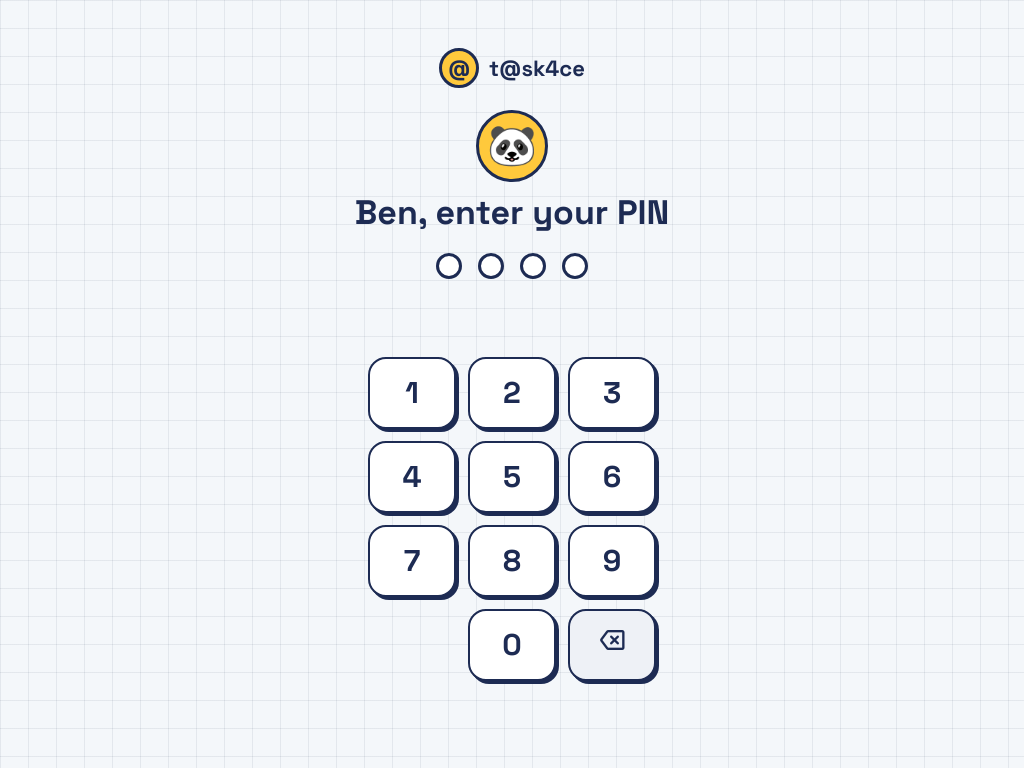
Test: kid lock screen › wrong PIN and rate limit messages
Click the button "1": (412, 393) [368,357,456,429]
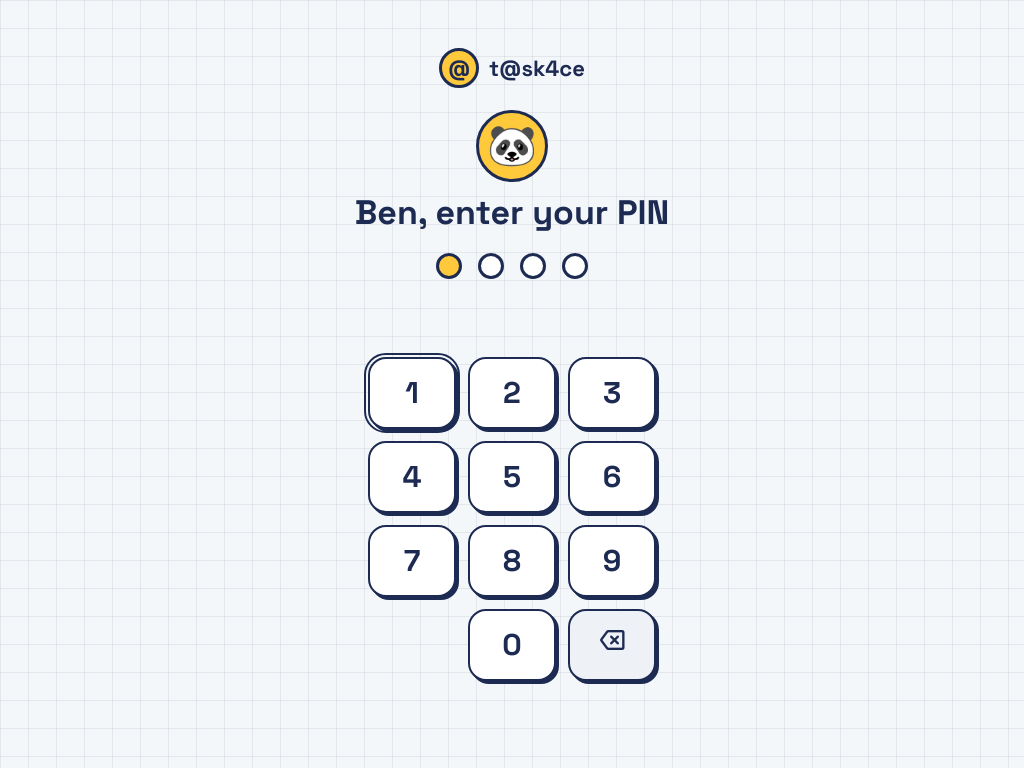
Click the button "2": (512, 393) [468,357,556,429]
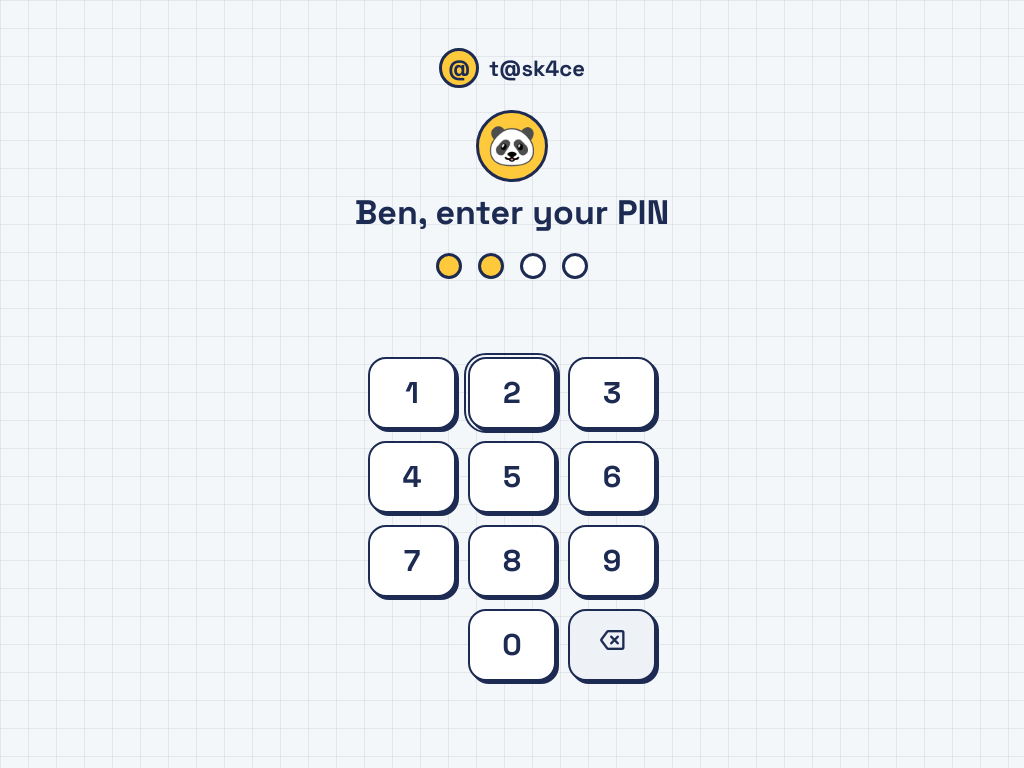
Click the button "3": (612, 393) [568,357,656,429]
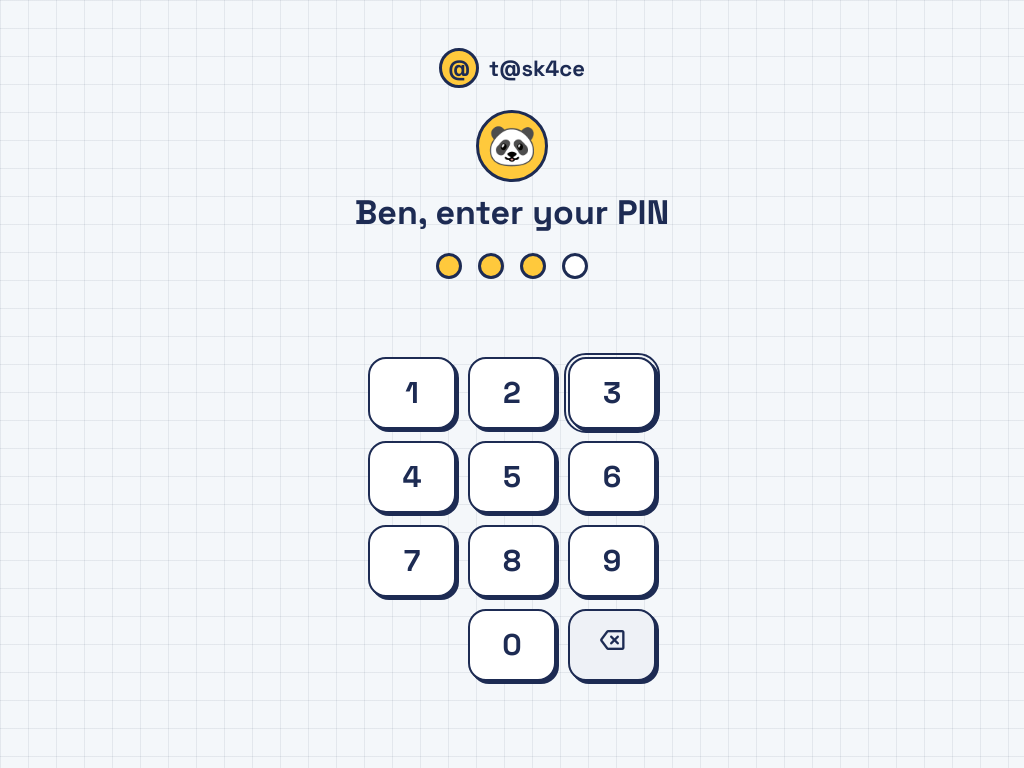
Click the button "4": (412, 477) [368,441,456,513]
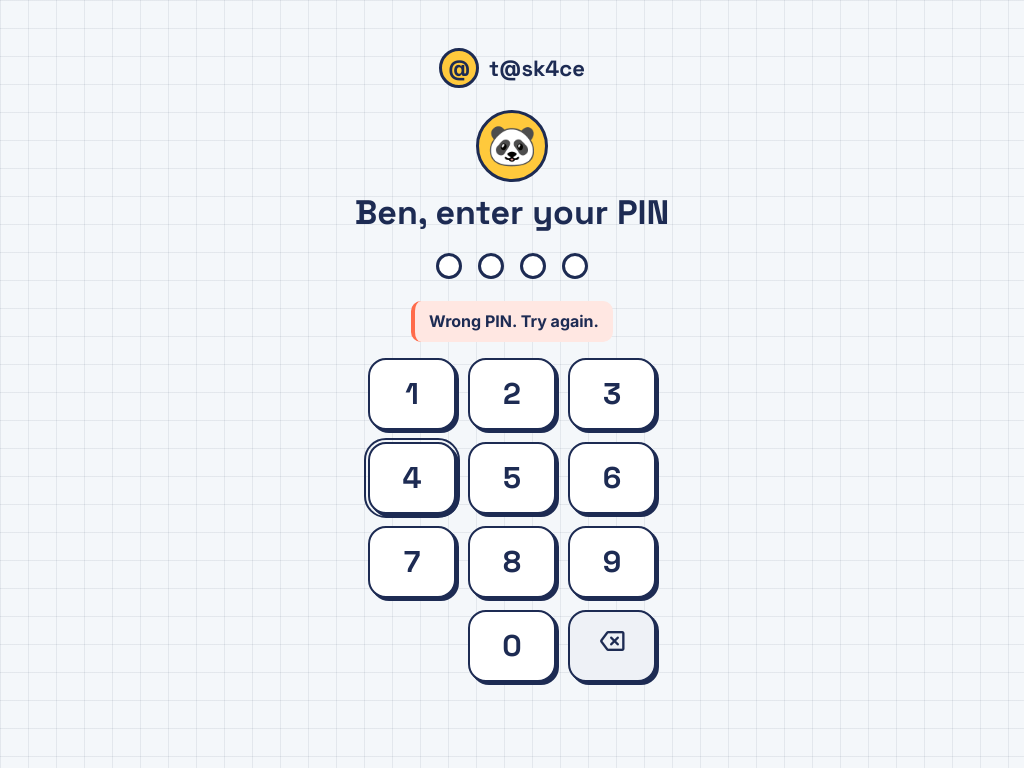
Now the text "Wrong PIN. Try again." is shown, box [411,301,613,342]
Type keys "5678"
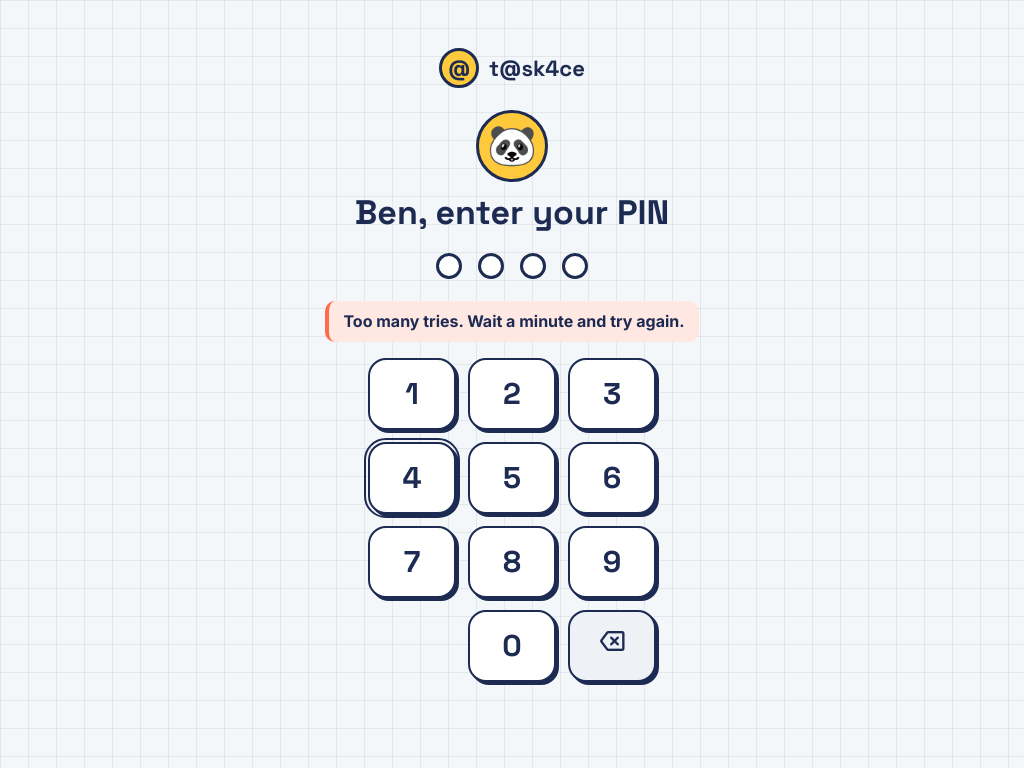
Now the text "Too many tries. Wait a minute and try again." is shown, box [325,301,699,342]
